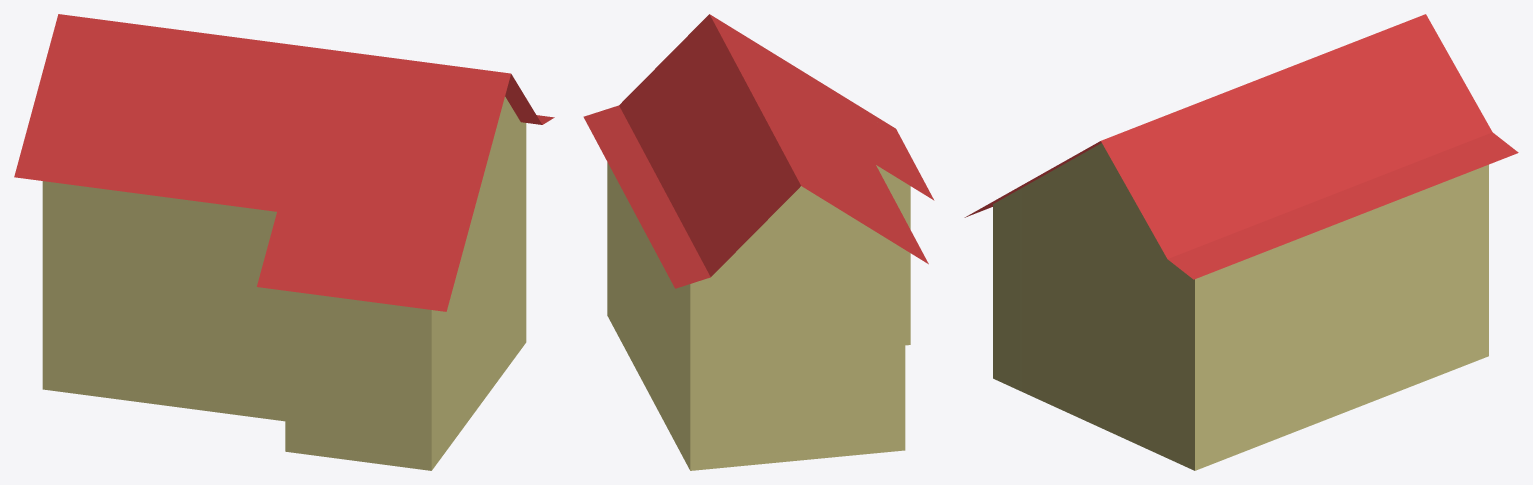
3 renders of one model, left to right at view 1: azimuth 30°, elevation 25°; view 2: azimuth 150°, elevation 25°; view 3: azimuth 270°, elevation 25°, orthographic. The views are drawn at different scales.
Bounding box in the file's own units: 17.81 × 19.68 × 11.73.
